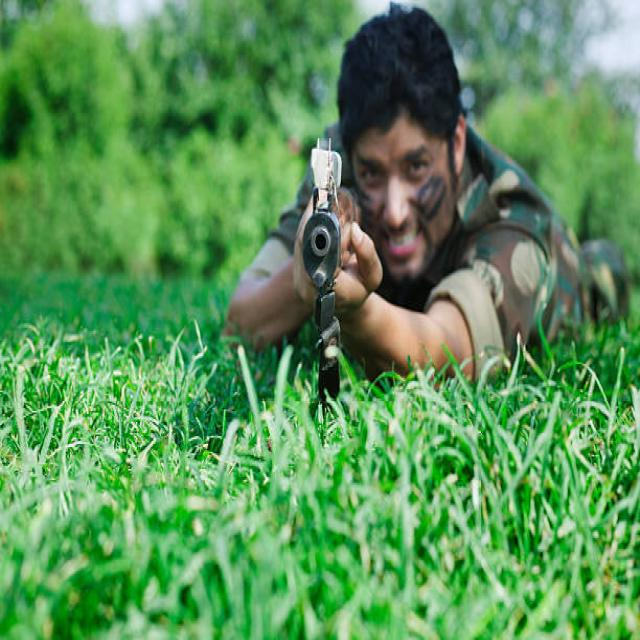soldier: (222, 7, 630, 405)
